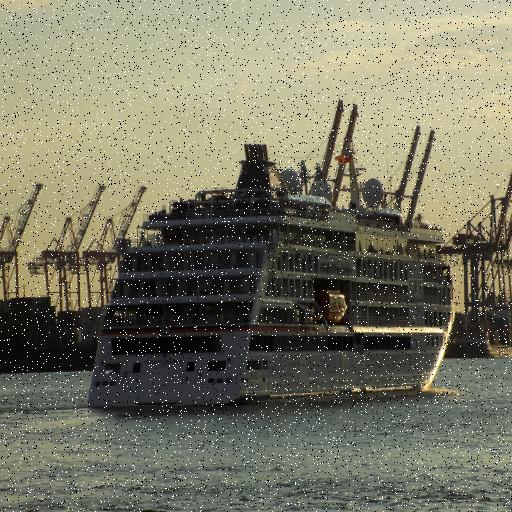cruises: (85, 137, 459, 411)
